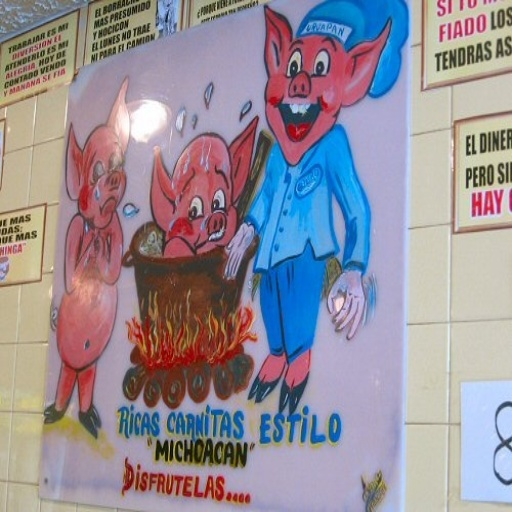hand: (325, 259, 368, 337), (223, 218, 258, 283), (86, 233, 102, 259), (95, 230, 105, 262)
